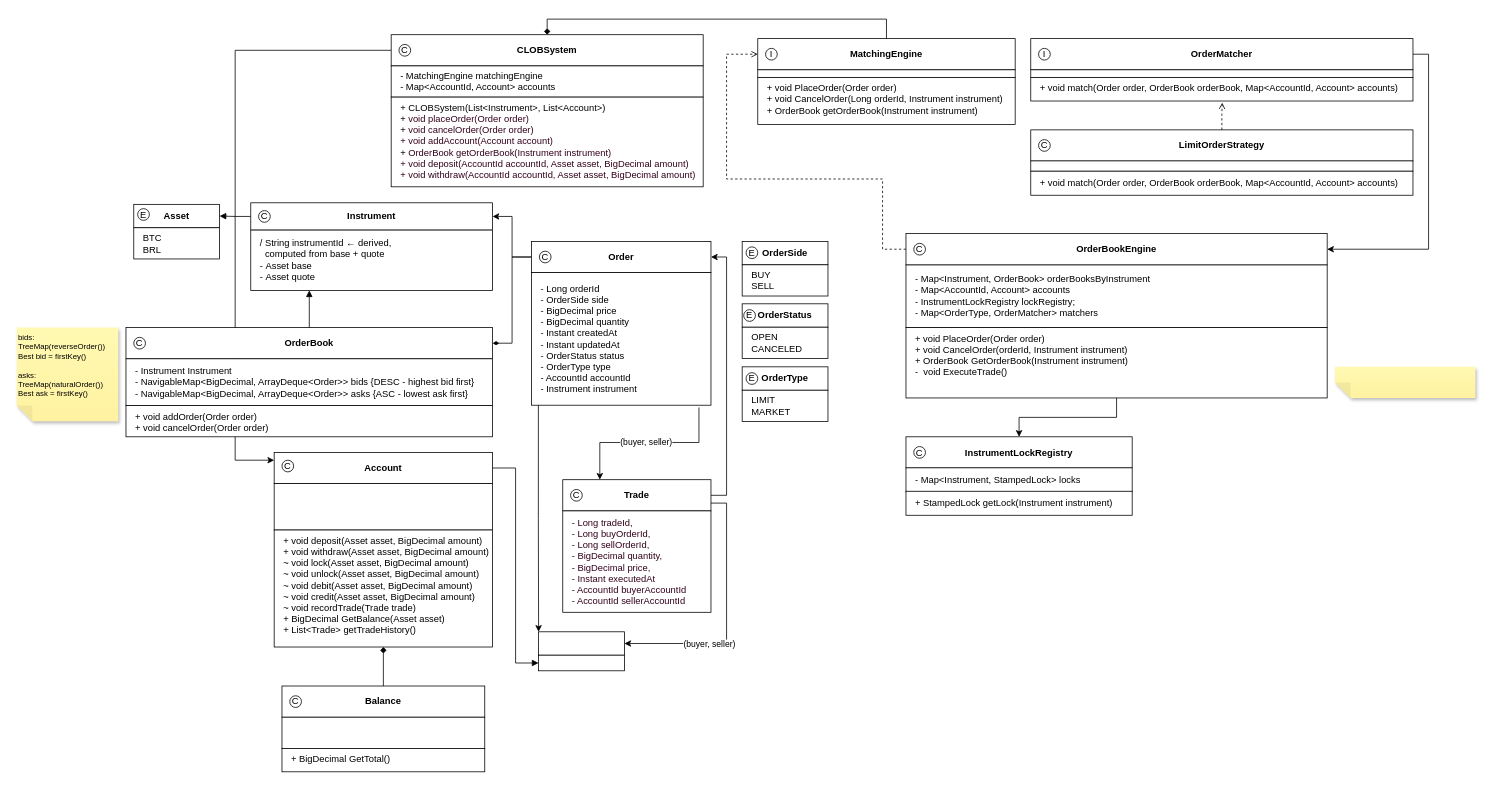
The diagram is 1493 pixels wide and 785 high, and some of its shapes have lost their labels. Each missing label, with the centre of its shape:
"- AccountId id - Map<Asset, Balance> balancesByAsset - List<Trade> tradeHistory" belongs at point 383,506.
"- BigDecimal available ; - BigDecimal locked ;" belongs at point 383,732.
"AccountId" belongs at point 581,643.
"String value" belongs at point 581,662.
"«Strategy Pattern» routes matching by OrderType" belongs at point 1405,383.
